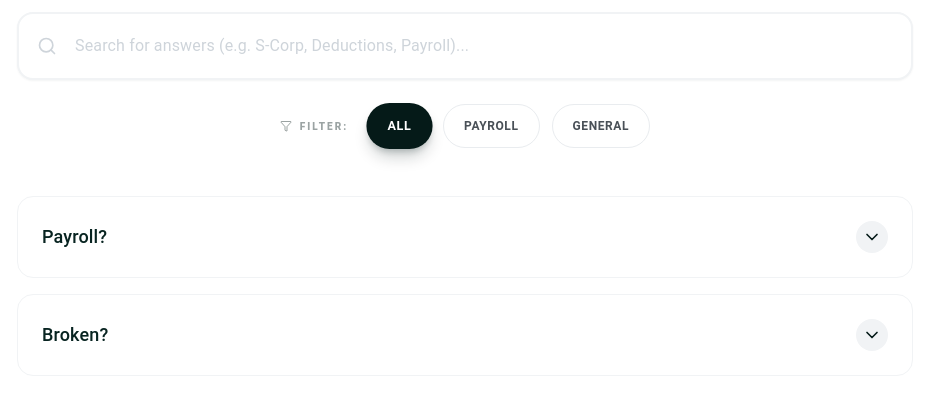
Test case: FAQList filtering › searches English content when the CMS returns a localized object
The width and height of the screenshot is (931, 393).
Type "compliance" into the search field at [465, 46], box [17,12,913,80]
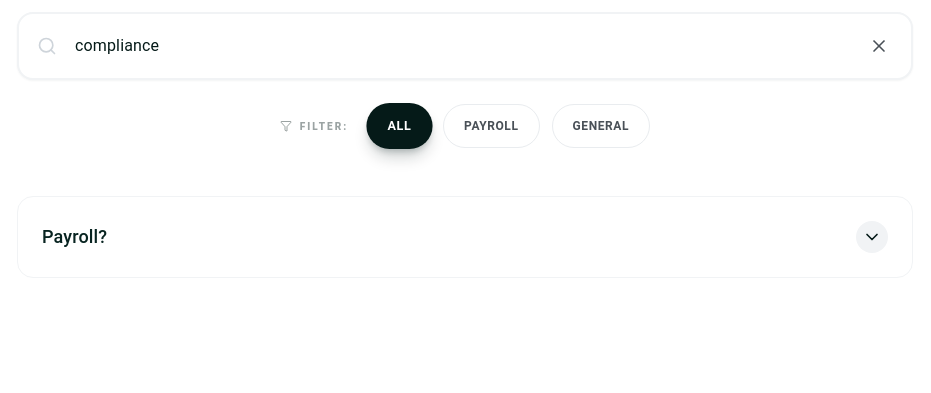
Click the button "Payroll?" at [75, 236], box [18,197,912,277]
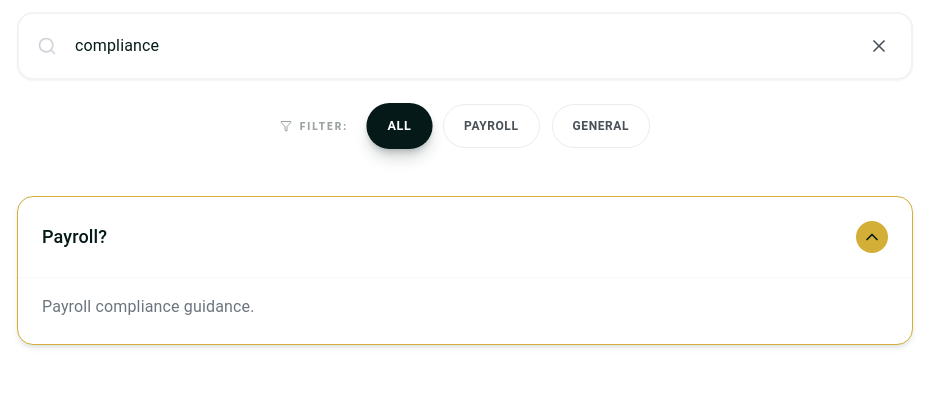
Expected: the text "Payroll compliance guidance." is shown, [42,297,254,316]
